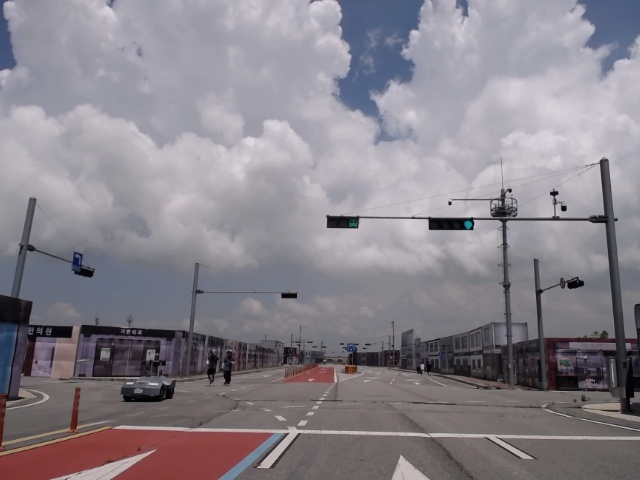straight_green_4: (430, 219, 474, 230)
